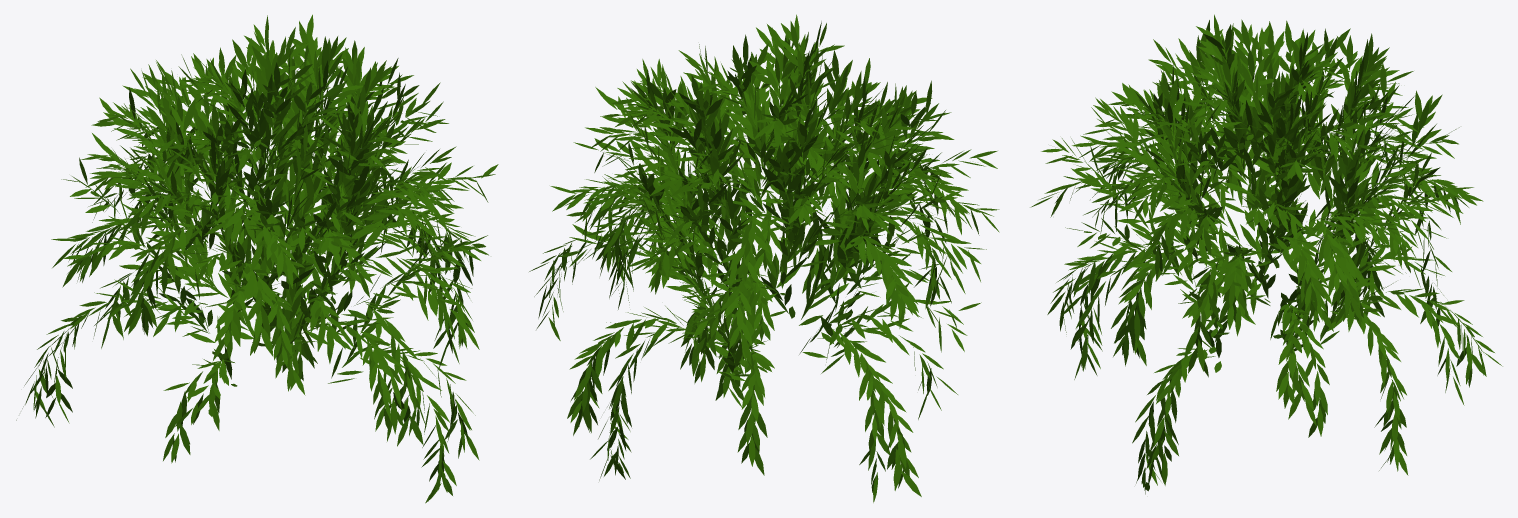
The model's file is bush.fbx.
The picture shows the model from 3 angles, left to right: view 1: azimuth 30°, elevation 25°; view 2: azimuth 150°, elevation 25°; view 3: azimuth 270°, elevation 25°; orthographic projection. The views are drawn at different scales.
Visible parts, largest first — view 1: leaves.002; view 2: leaves.002; view 3: leaves.002.
Part boxes in pixels (left/top/right/bottom): leaves.002: left=16, top=14, right=498, bottom=503; leaves.002: left=529, top=14, right=999, bottom=502; leaves.002: left=1030, top=14, right=1502, bottom=494.
Size of the model in its own units: 640 by 613 by 618.
